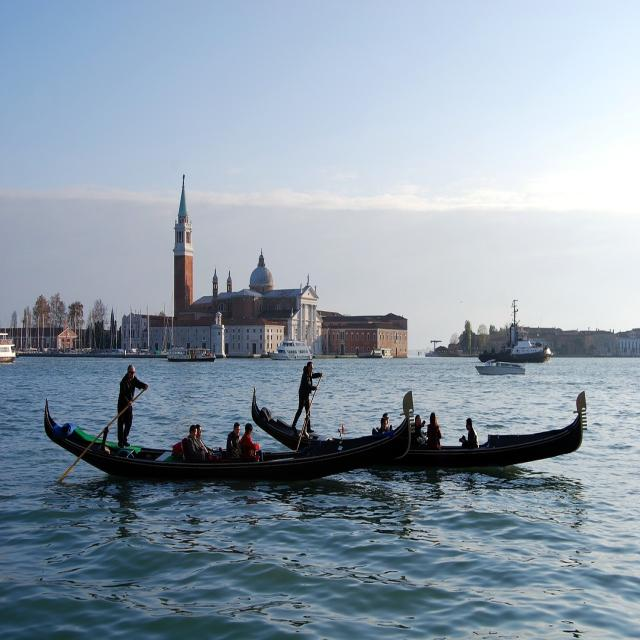boat: (38, 358, 420, 517), (232, 352, 606, 498)
